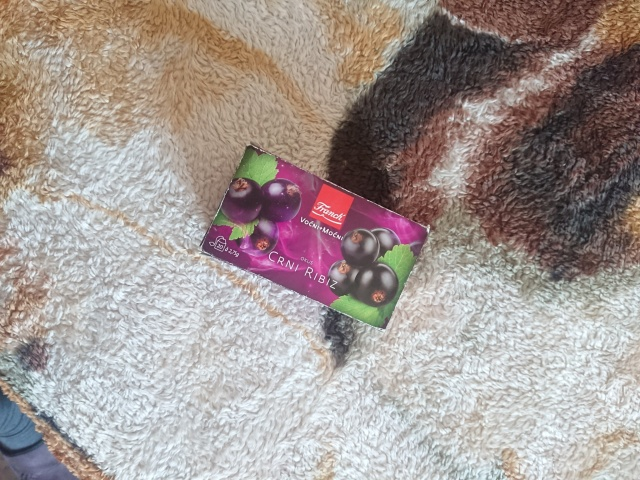Franck Black Currant Tea 60g: (196, 139, 433, 333)
